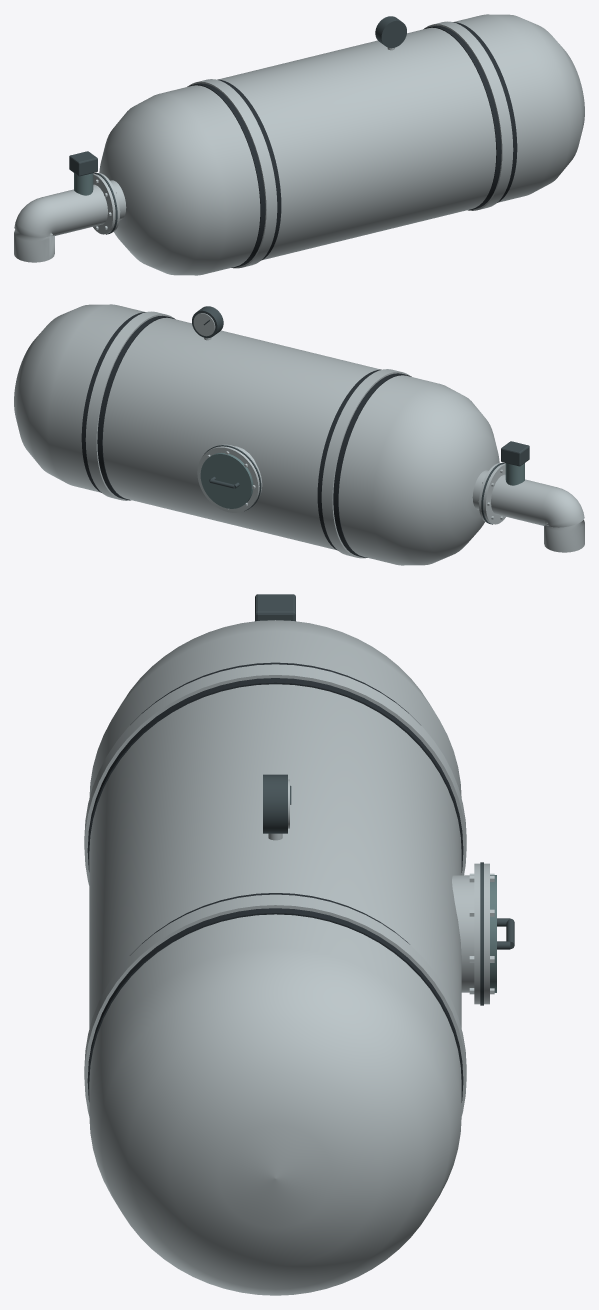
Rendered from landing_separator.glb.
The picture shows the model from 3 angles, top to bottom: view 1: azimuth 30°, elevation 25°; view 2: azimuth 150°, elevation 25°; view 3: azimuth 270°, elevation 25°; orthographic projection. The views are drawn at different scales.
Parts seen in each view (by area): view 1: landing_separator; view 2: landing_separator; view 3: landing_separator.
Part boxes in pixels (<box>): landing_separator: <box>14,14,584,275</box>; landing_separator: <box>14,304,584,565</box>; landing_separator: <box>84,594,514,1295</box>.
Size of the model in its own units: 5.61 by 1.95 by 1.89.
